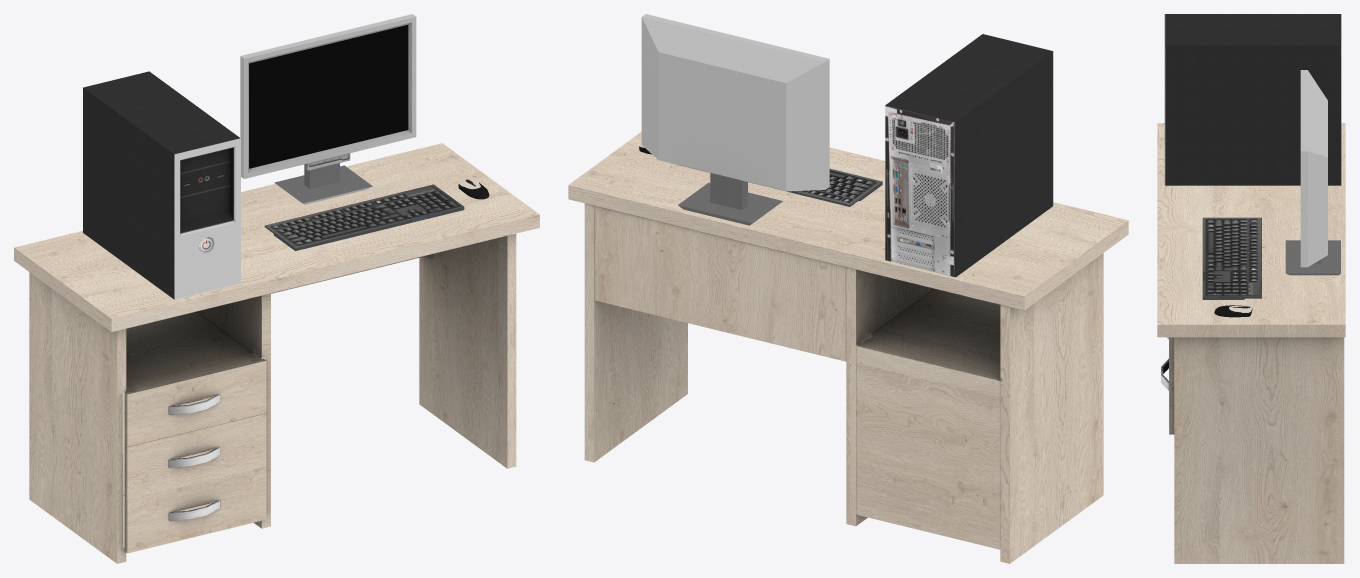
The model's file is tech_con_5.glb.
3 renders of one model, left to right at view 1: azimuth 30°, elevation 25°; view 2: azimuth 150°, elevation 25°; view 3: azimuth 270°, elevation 25°, orthographic. The views are drawn at different scales.
Visible parts, largest first — view 1: PC 4_PC 4_0; view 2: PC 4_PC 4_0; view 3: PC 4_PC 4_0.
Part boxes in pixels (<box>): PC 4_PC 4_0: <box>14,14,539,563</box>; PC 4_PC 4_0: <box>568,14,1128,563</box>; PC 4_PC 4_0: <box>1157,14,1345,563</box>.
Size of the model in its own units: 1.27 by 1.16 by 0.5009.
Materials: 5 (5 with a texture image).
